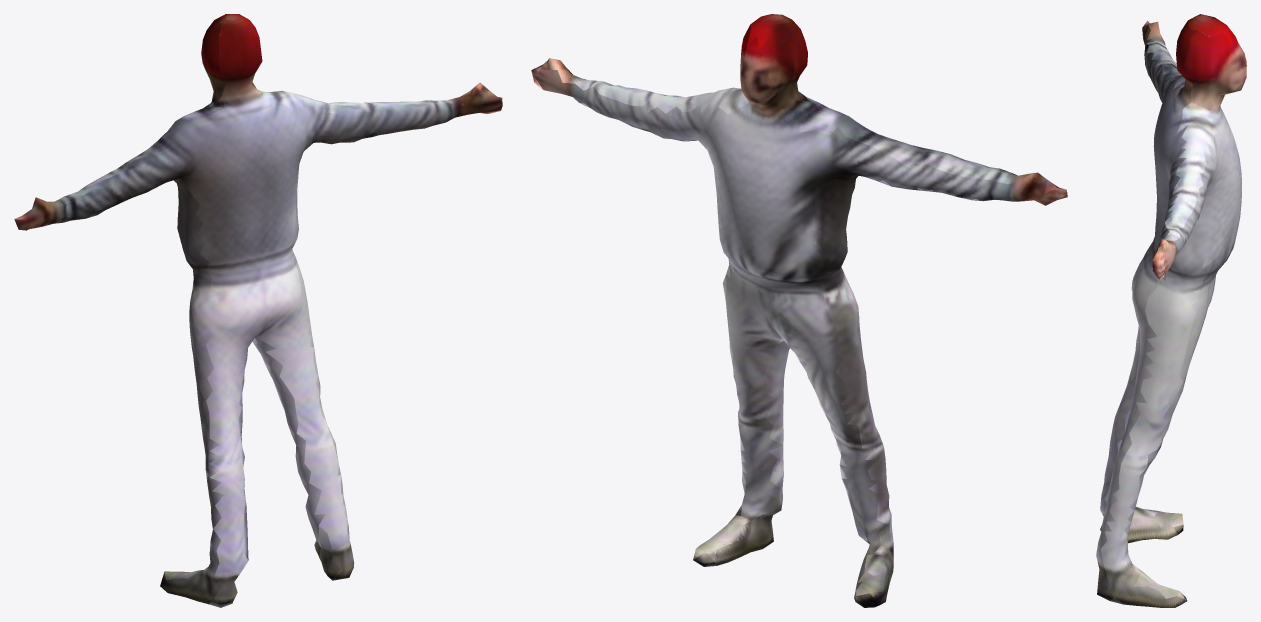
3 renders of one model, left to right at view 1: azimuth 30°, elevation 25°; view 2: azimuth 150°, elevation 25°; view 3: azimuth 270°, elevation 25°, orthographic. The views are drawn at different scales.
Parts seen in each view (by area): view 1: world; view 2: world; view 3: world.
Part boxes in pixels (bbox=[...]): world: bbox=[14, 14, 502, 607]; world: bbox=[531, 14, 1067, 607]; world: bbox=[1096, 14, 1246, 607].
Size of the model in its own units: 0.9197 by 0.9716 by 0.2398.
Materials: 1 (1 with a texture image).
